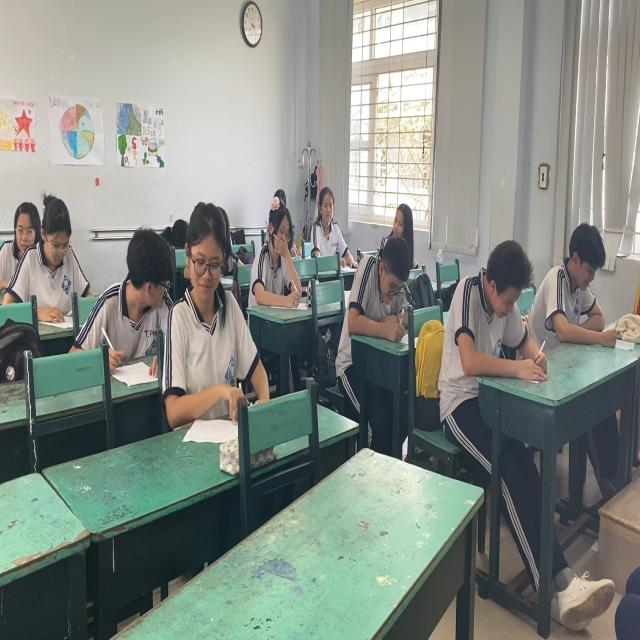cheating: (100, 231, 176, 349)
not_cheating: (156, 203, 265, 400), (455, 231, 539, 369), (553, 214, 619, 345), (349, 231, 414, 335), (32, 186, 90, 296), (259, 197, 309, 303), (308, 183, 340, 255), (7, 196, 41, 256), (393, 196, 417, 248)
